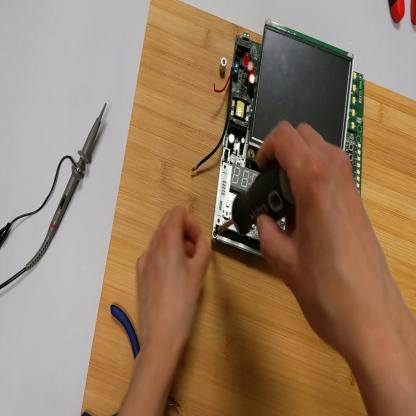hand: (252, 120, 390, 352), (134, 204, 213, 359)
low voltage board: (191, 19, 364, 259)
oscilloscope probe tip: (26, 98, 107, 275)
pliers: (110, 308, 181, 409), (389, 1, 416, 29)
screwdriver-: (216, 155, 296, 236)
working area: (81, 1, 416, 416)
